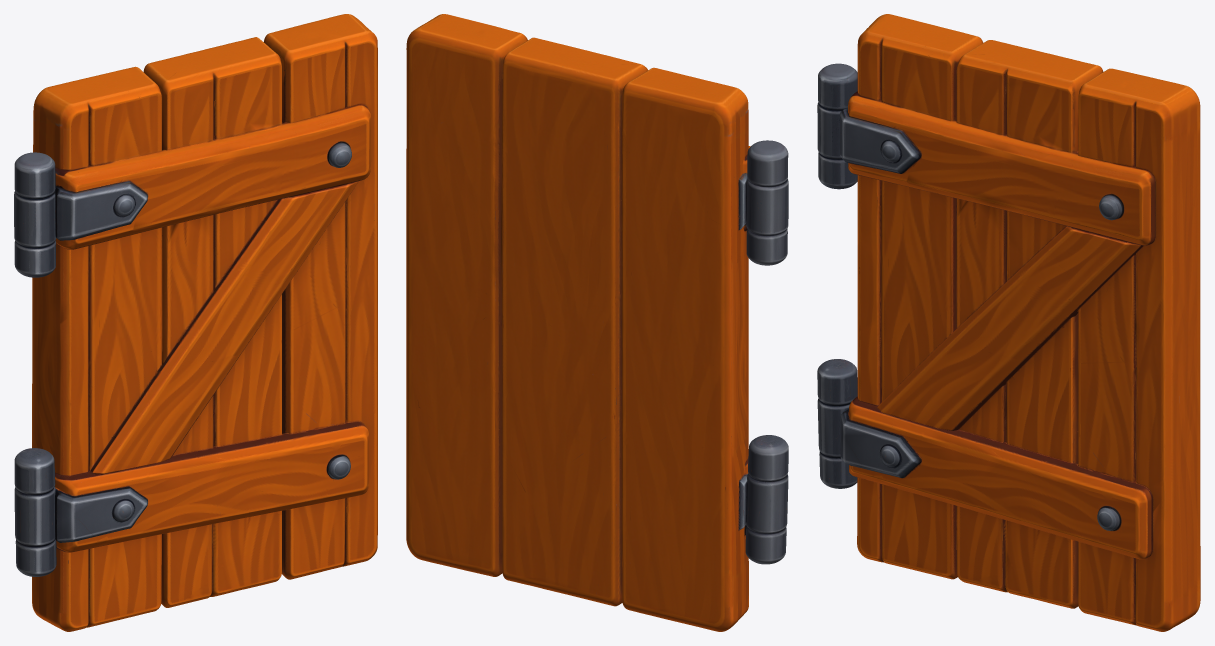
Rendered from door.glb.
3 views of the same model, side by side, from view 1: azimuth 30°, elevation 25°; view 2: azimuth 150°, elevation 25°; view 3: azimuth 330°, elevation 25° (orthographic).
Size of the model in its own units: 1.35 by 1.9 by 0.2804.
1 material, 1 textured.
